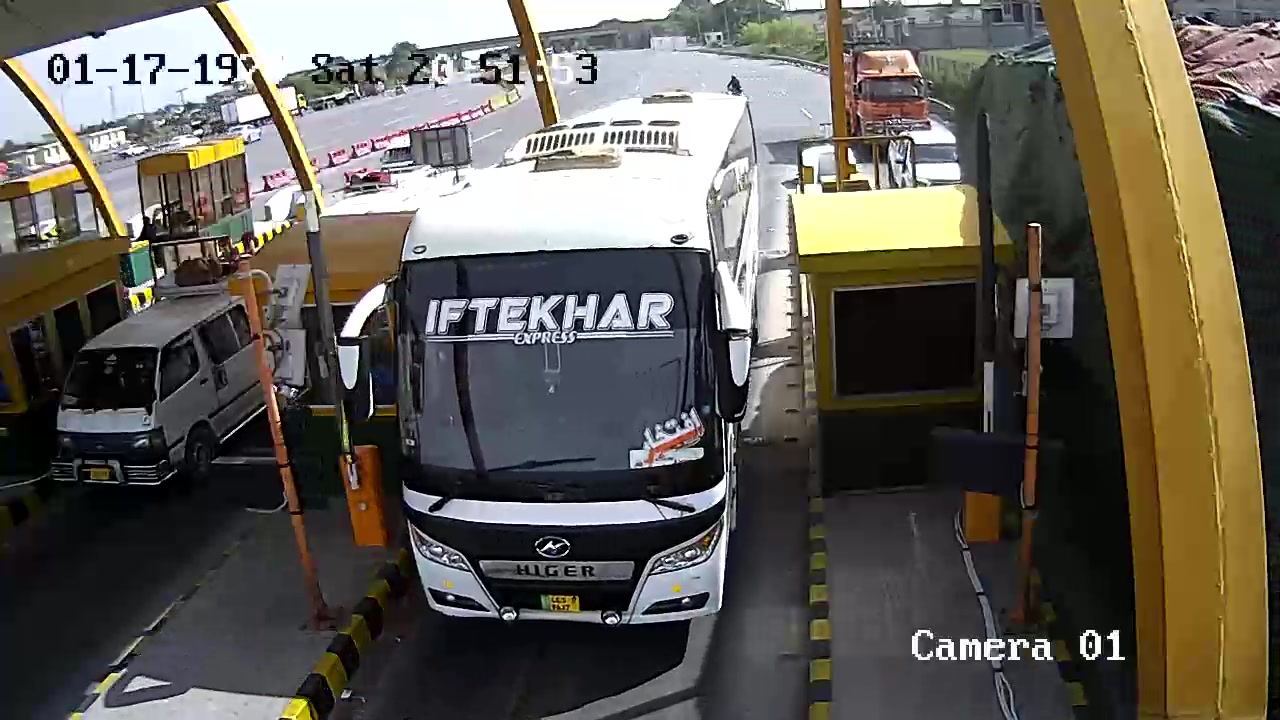F4: (399, 88, 765, 626)
